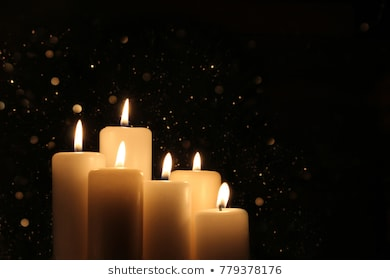Fire: (216, 181, 231, 211), (71, 119, 85, 151), (114, 141, 128, 169), (189, 150, 205, 174), (118, 96, 131, 125), (161, 152, 173, 179)
